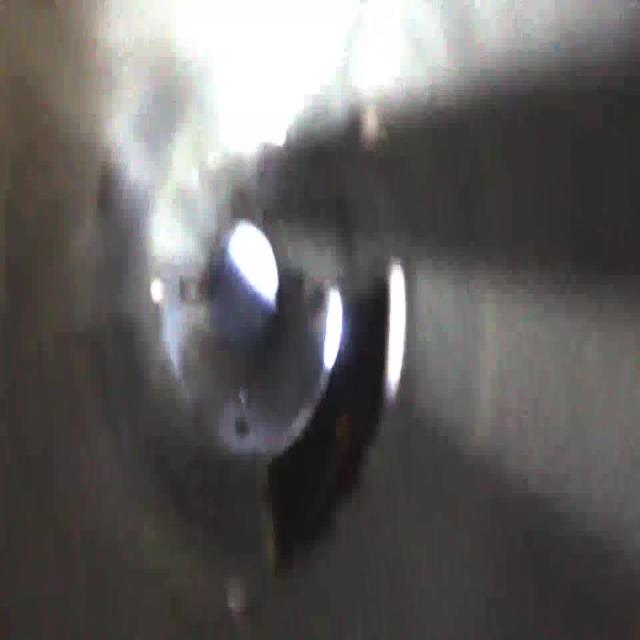hole: (259, 251, 417, 586)
